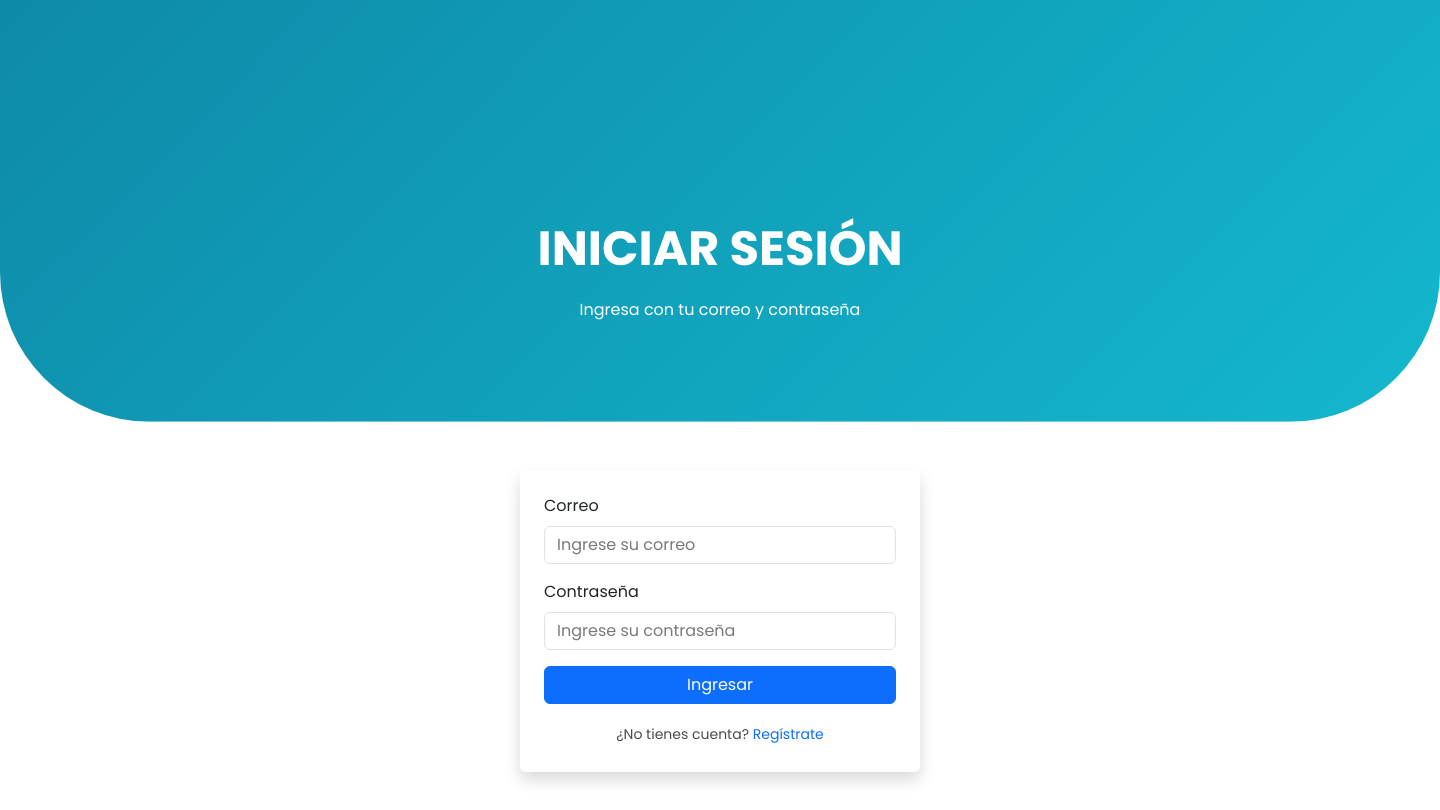
Página Login › valida el dominio del correo en tiempo real
The image size is (1440, 810).
Type "ana@yahoo.com" into the field labelled "Correo" at (720, 545), box x1=544 y1=526 x2=896 y2=564
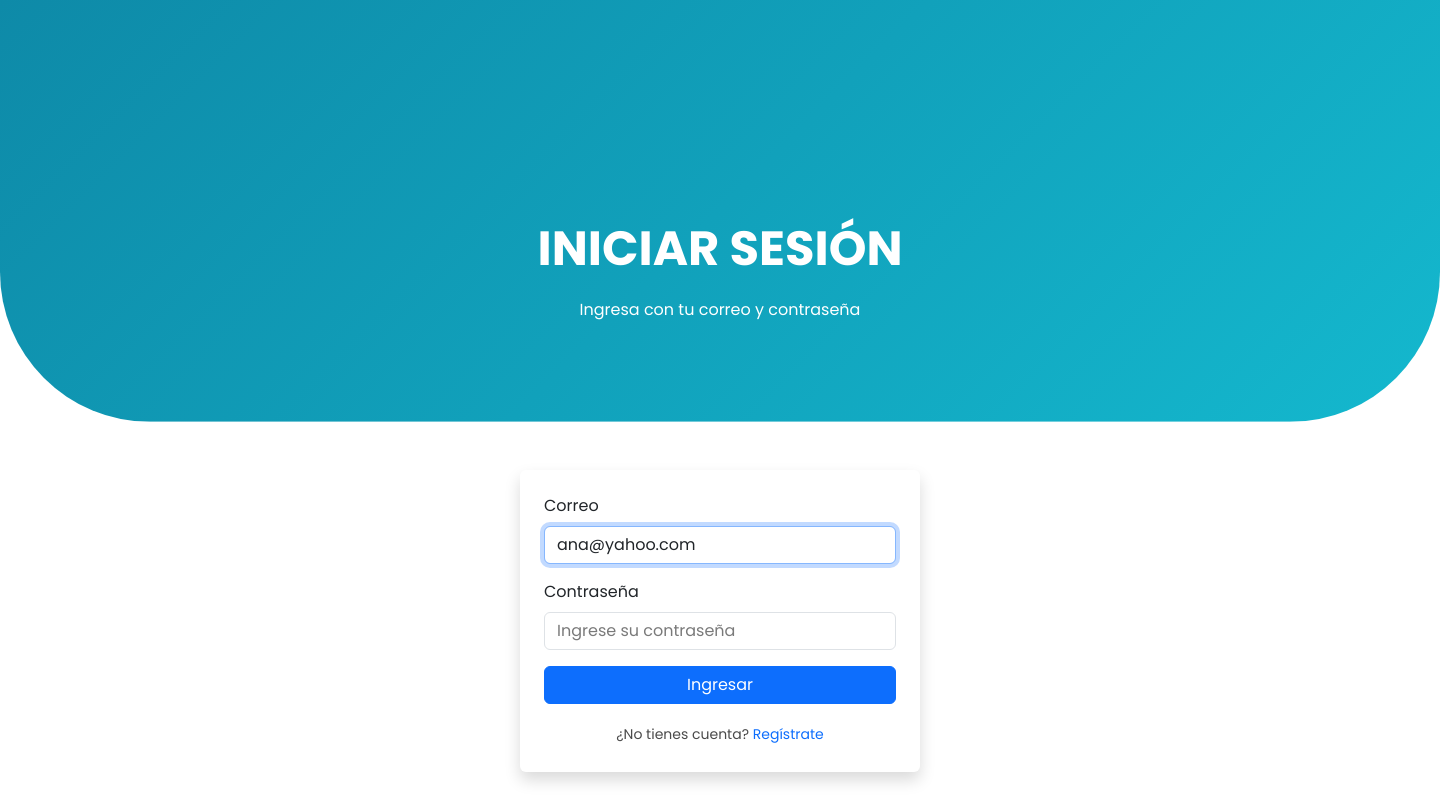
Press Tab
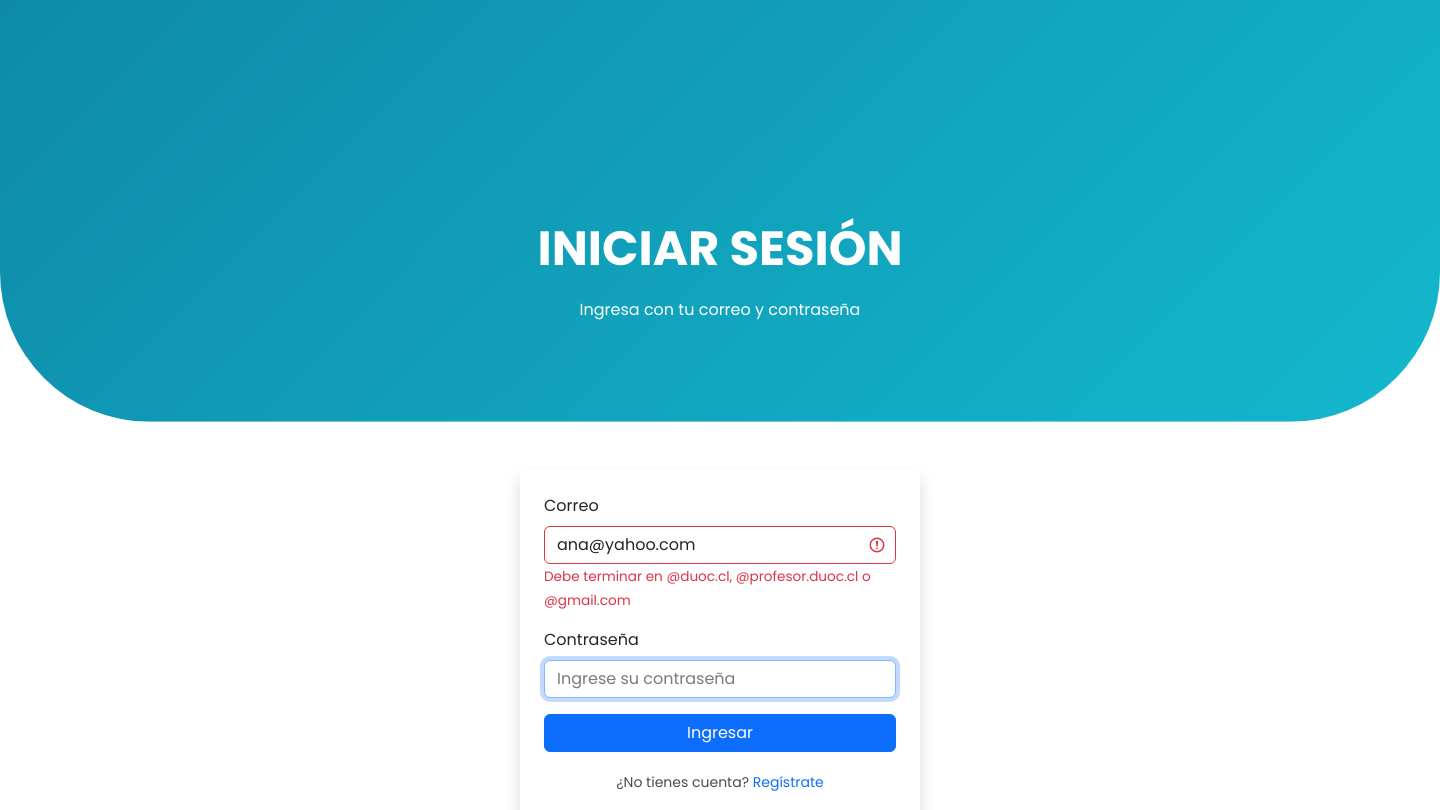
Now the text "Debe terminar en @duoc.cl, @profesor.duoc.cl o @gmail.com" is shown, box x1=544 y1=567 x2=871 y2=610
